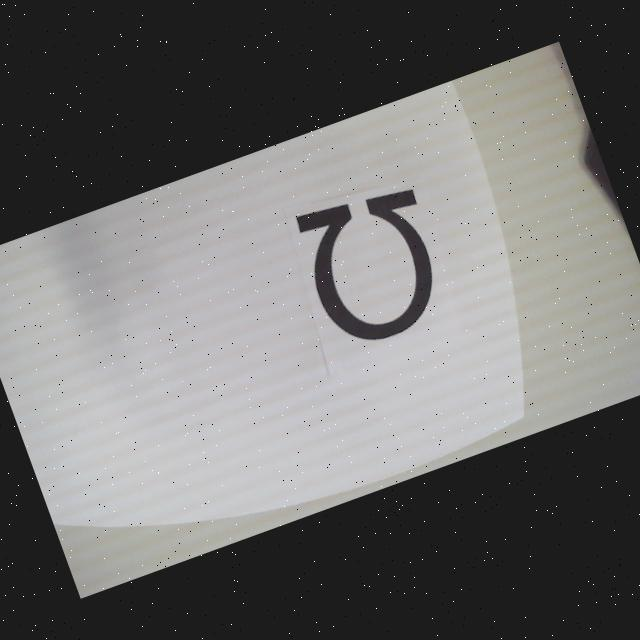OMEGA: (291, 176, 458, 354)
